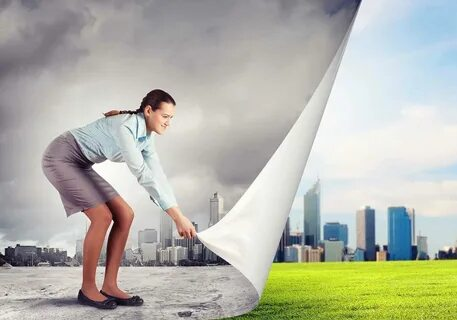awake: (40, 88, 198, 310)
